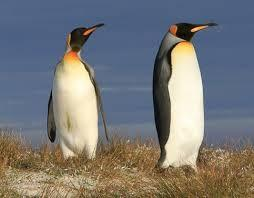king: (36, 17, 129, 173), (140, 14, 225, 178)
